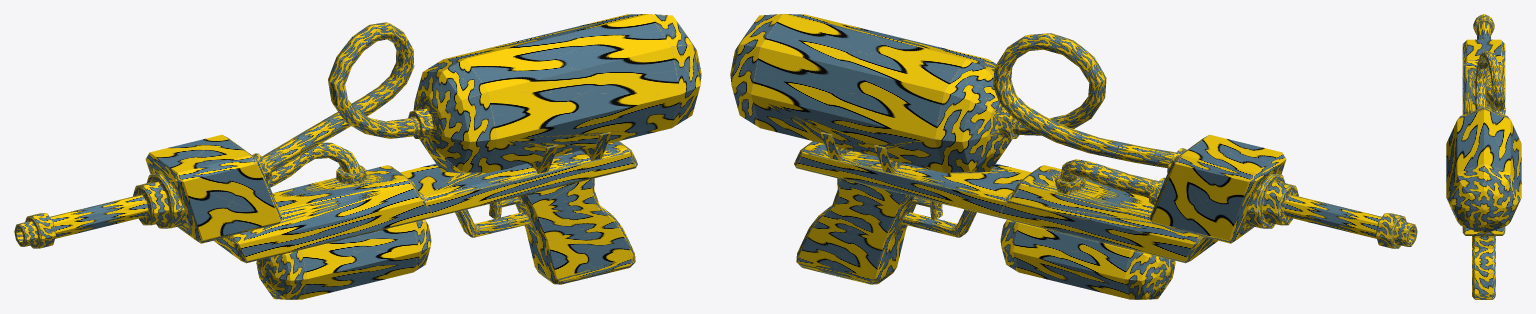
Rendered from WaterPistol.fbx.
The picture shows the model from 3 angles, left to right: view 1: azimuth 30°, elevation 25°; view 2: azimuth 150°, elevation 25°; view 3: azimuth 270°, elevation 25°; orthographic projection. The views are drawn at different scales.
Visible parts, largest first — view 1: WaterPistol; view 2: WaterPistol; view 3: WaterPistol.
Part boxes in pixels (x1,y1,x2,y2): WaterPistol: (14, 14, 701, 299); WaterPistol: (730, 14, 1417, 299); WaterPistol: (1446, 14, 1521, 299).
Bounding box in the file's own units: 25.17 × 10.47 × 4.1.
Materials: 1 (1 with a texture image).
